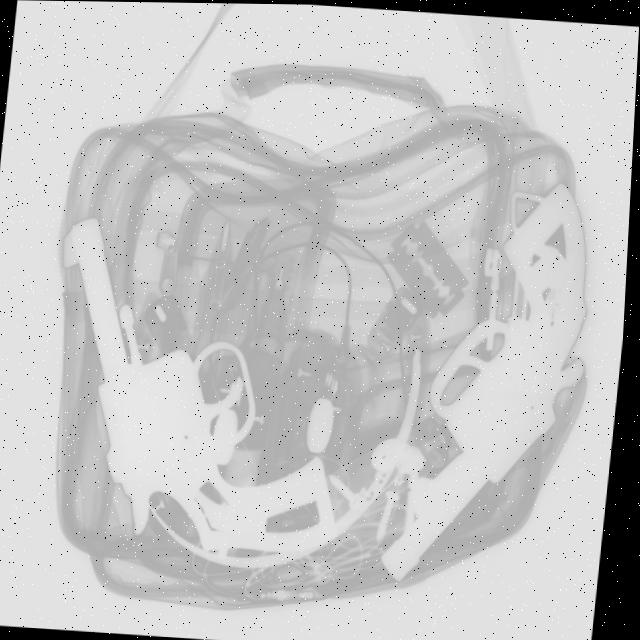pistol: (37, 215, 366, 566), (383, 168, 603, 591)
